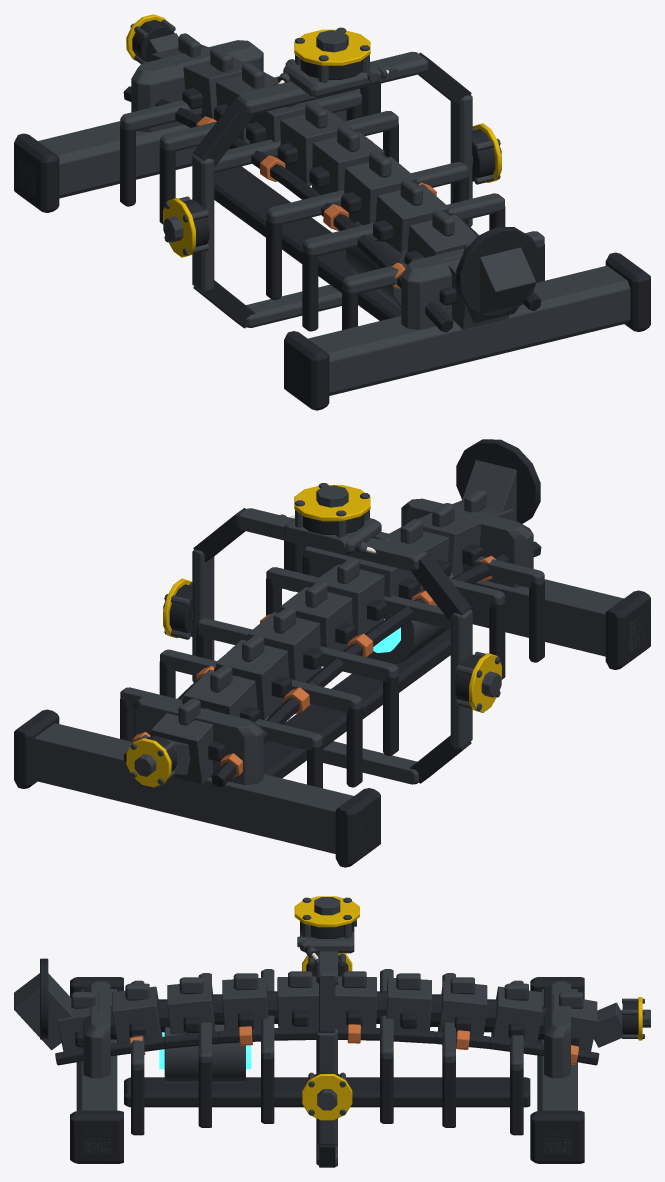
File: Skel_TorsoAnimal_Medium.fbx
3 views of the same model, one above another, from view 1: azimuth 30°, elevation 25°; view 2: azimuth 150°, elevation 25°; view 3: azimuth 270°, elevation 25° (orthographic). The views are drawn at different scales.
Visible parts, largest first — view 1: Skel_TorsoAnimal_Medium; view 2: Skel_TorsoAnimal_Medium; view 3: Skel_TorsoAnimal_Medium.
Boxes of the visible parts, x1,y1,x2,y2 form: Skel_TorsoAnimal_Medium: (14, 14, 650, 410); Skel_TorsoAnimal_Medium: (14, 439, 650, 867); Skel_TorsoAnimal_Medium: (14, 896, 650, 1167).
Size of the model in its own units: 1.24 by 0.93 by 2.35.
